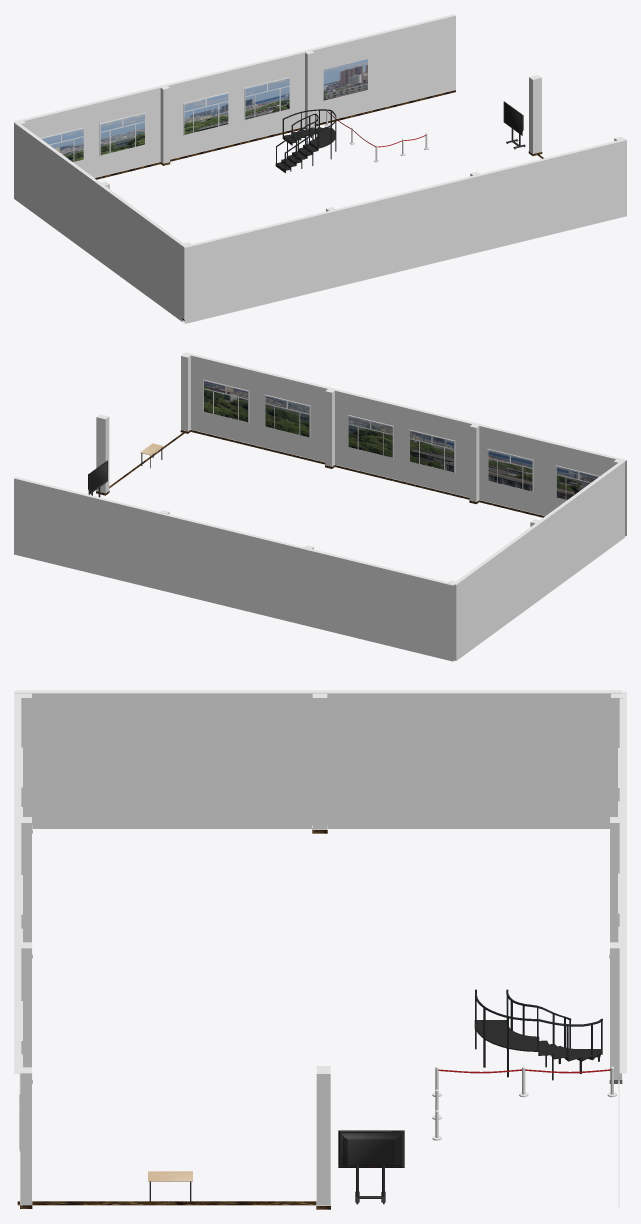
The model's file is sai_di4.dae.
3 views of the same model, one above another, from view 1: azimuth 30°, elevation 25°; view 2: azimuth 150°, elevation 25°; view 3: azimuth 270°, elevation 25° (orthographic). The views are drawn at different scales.
Parts seen in each view (by area): view 1: _4; view 2: _4; view 3: _4.
Part boxes in pixels (bbox=[...]): _4: bbox=[14, 14, 626, 323]; _4: bbox=[14, 352, 626, 661]; _4: bbox=[14, 690, 626, 1209].
Size of the model in its own units: 18.22 by 12.3 by 3.
12 materials, 9 textured.
